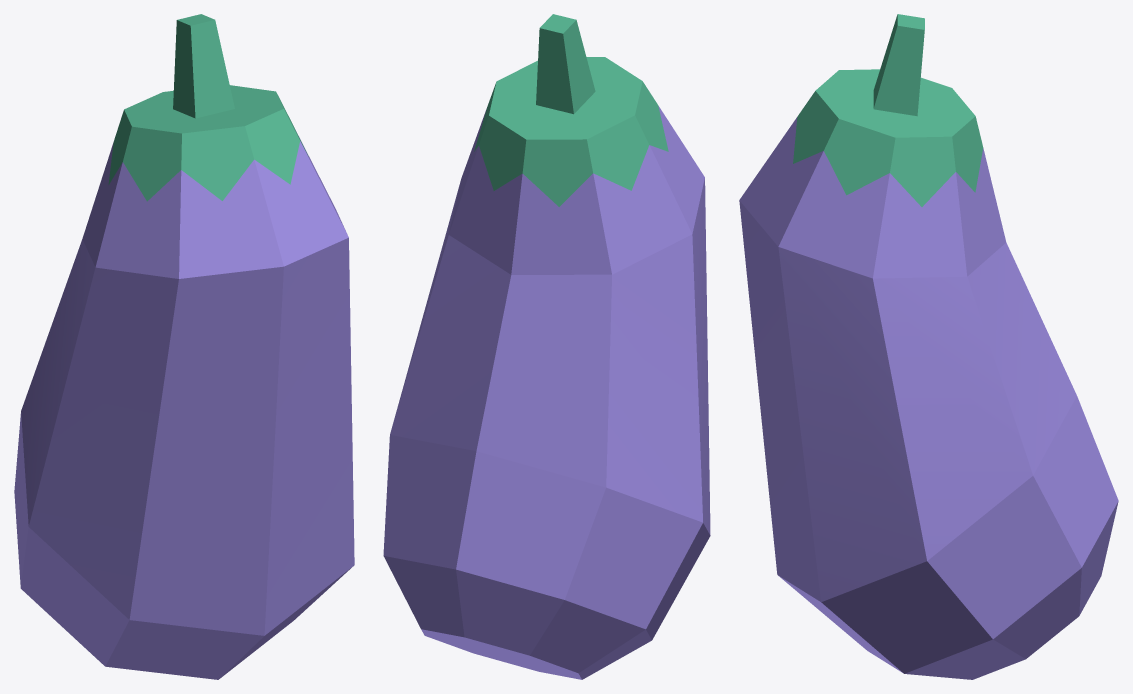
Rendered from eggplant.obj.
3 renders of one model, left to right at view 1: azimuth 30°, elevation 25°; view 2: azimuth 150°, elevation 25°; view 3: azimuth 270°, elevation 25°, orthographic. The views are drawn at different scales.
Visible parts, largest first — view 1: eggplant; view 2: eggplant; view 3: eggplant.
Part boxes in pixels (x1,y1,x2,y2): eggplant: (14, 14, 354, 679); eggplant: (383, 14, 710, 679); eggplant: (739, 14, 1118, 679).
Bounding box in the file's own units: 0.204 × 0.4052 × 0.2156.
